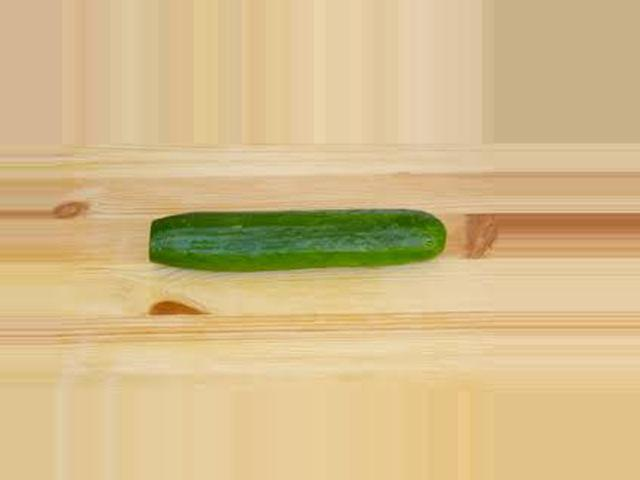cucumber: (150, 210, 446, 269)
